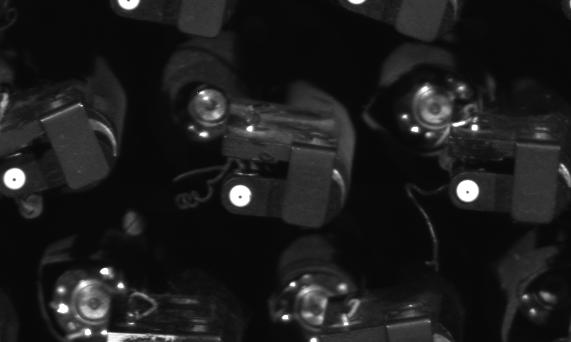fiber: (224, 179, 259, 216), (449, 175, 487, 207), (1, 161, 34, 196), (107, 1, 150, 18)
